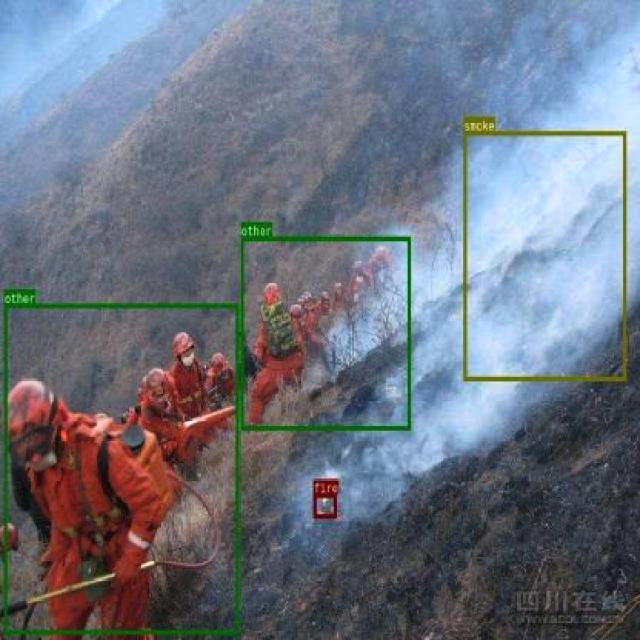fire: (313, 493, 336, 518)
smoke: (463, 131, 626, 380)
